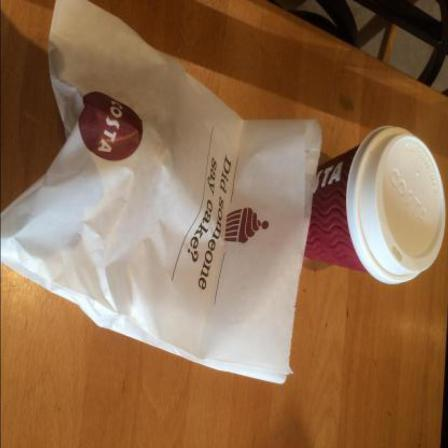Cup: (304, 127, 446, 286)
Lid: (347, 127, 447, 285)
Other litter: (1, 1, 322, 385)
